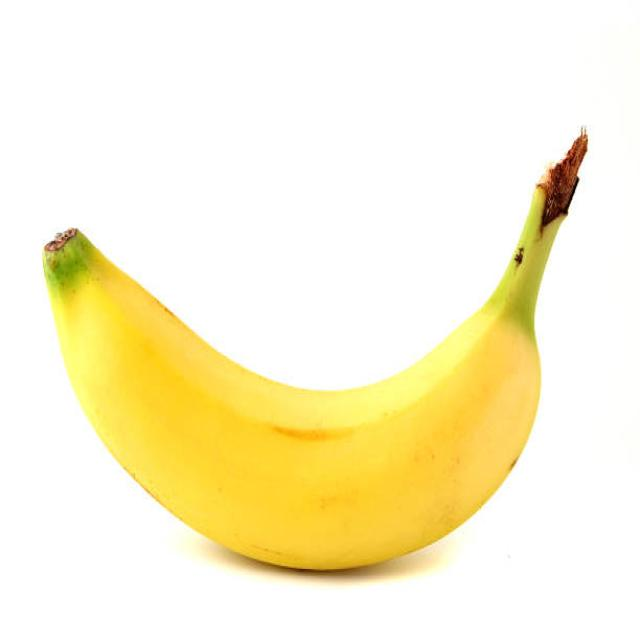Ripe: (30, 179, 561, 571)
